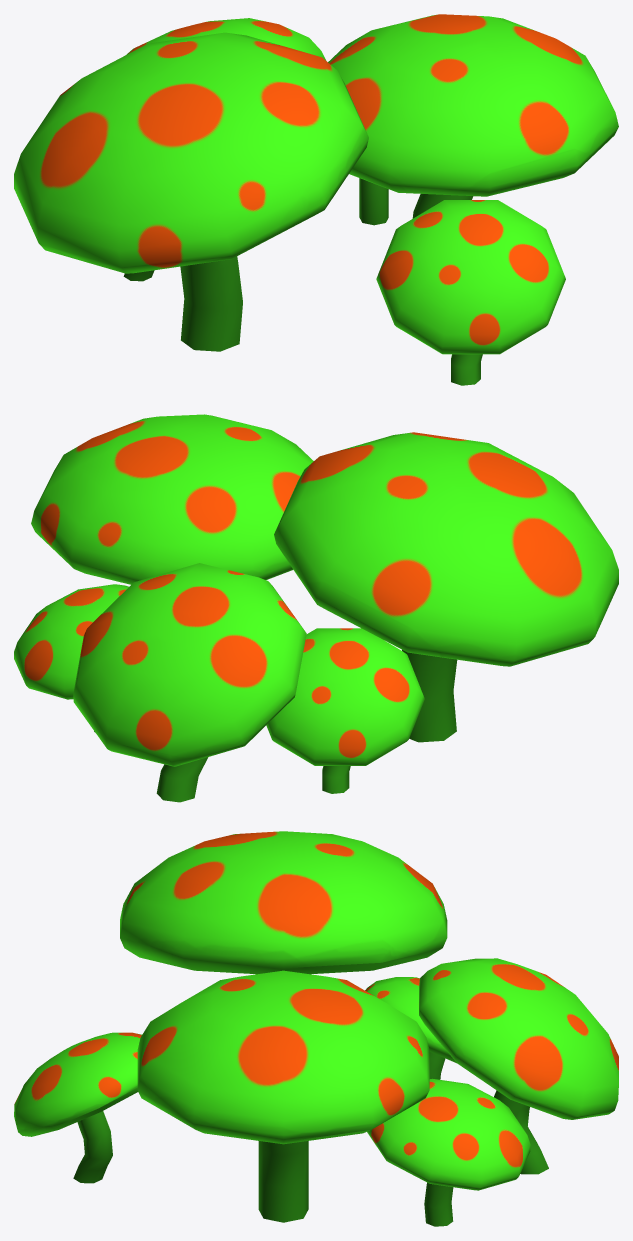
Rendered from envi_prop_mushroom_01.fbx.
The picture shows the model from 3 angles, top to bottom: view 1: azimuth 30°, elevation 25°; view 2: azimuth 150°, elevation 25°; view 3: azimuth 270°, elevation 25°; orthographic projection. The views are drawn at different scales.
Parts seen in each view (by area): view 1: polySurface7; view 2: polySurface7; view 3: polySurface7.
Part boxes in pixels (box(x1,y1,x2,y2)): polySurface7: box(14, 14, 618, 385); polySurface7: box(14, 414, 618, 802); polySurface7: box(14, 831, 618, 1226).
Bounding box in the file's own units: 162 × 161 × 77.52.
